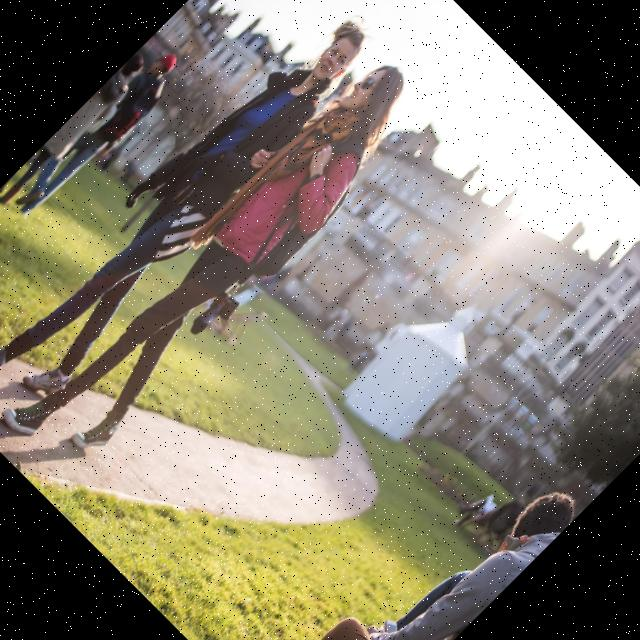Person: (0, 40, 440, 481), (0, 0, 396, 424), (274, 442, 583, 640), (4, 44, 188, 228), (0, 49, 155, 213)
